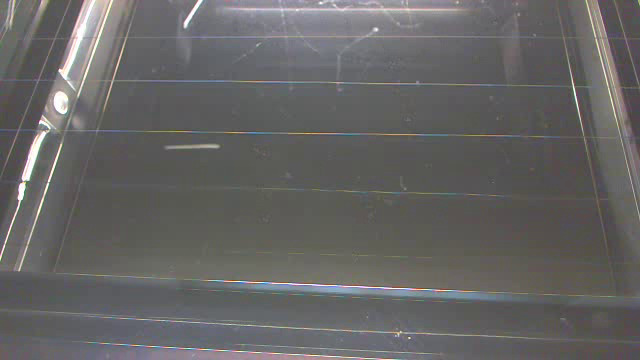Alfa: (154, 140, 230, 155), (178, 1, 203, 29)
